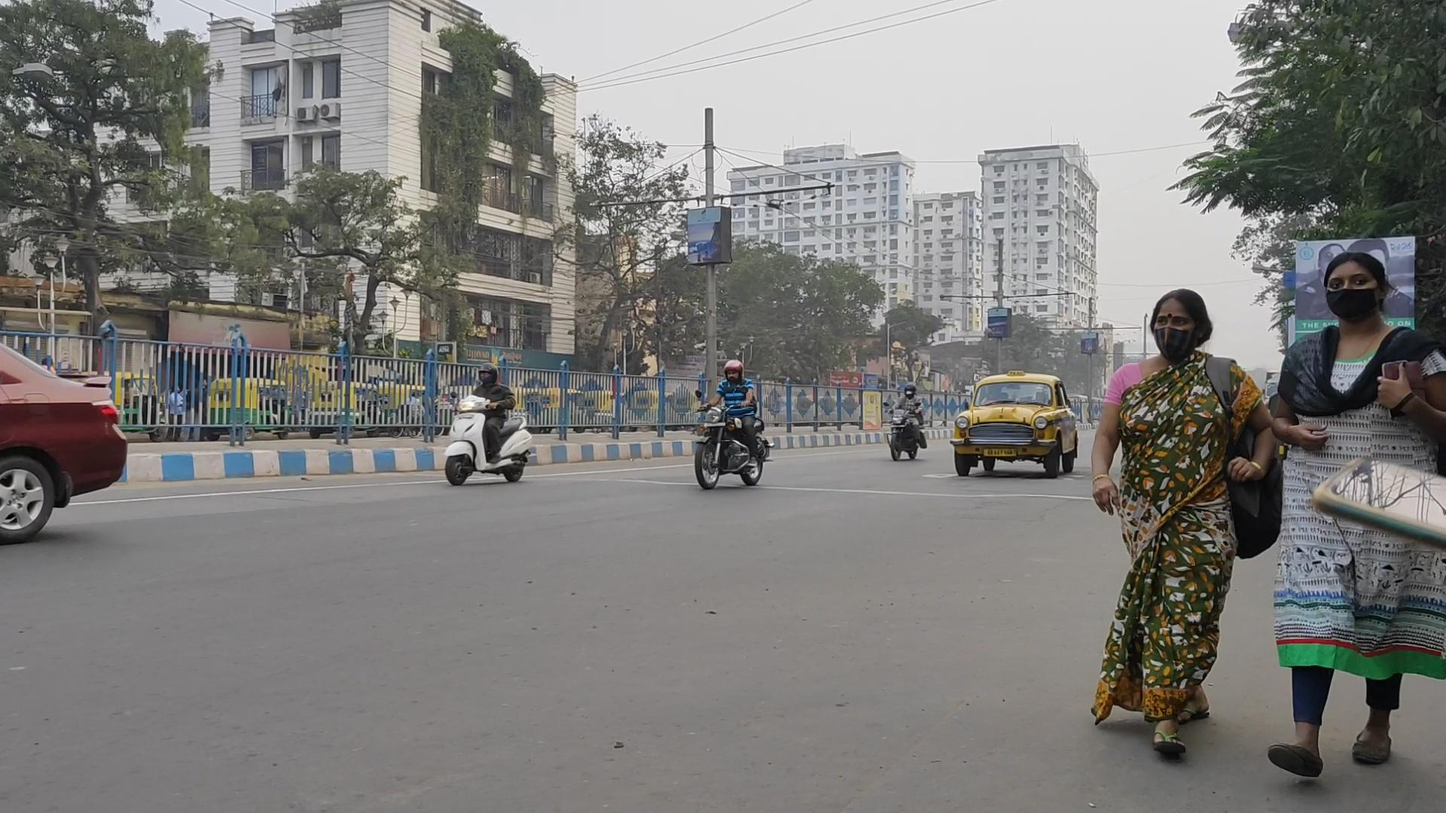bike: (443, 363, 532, 489), (694, 360, 777, 490), (882, 382, 929, 462)
car: (1, 342, 127, 546), (949, 370, 1080, 477)
